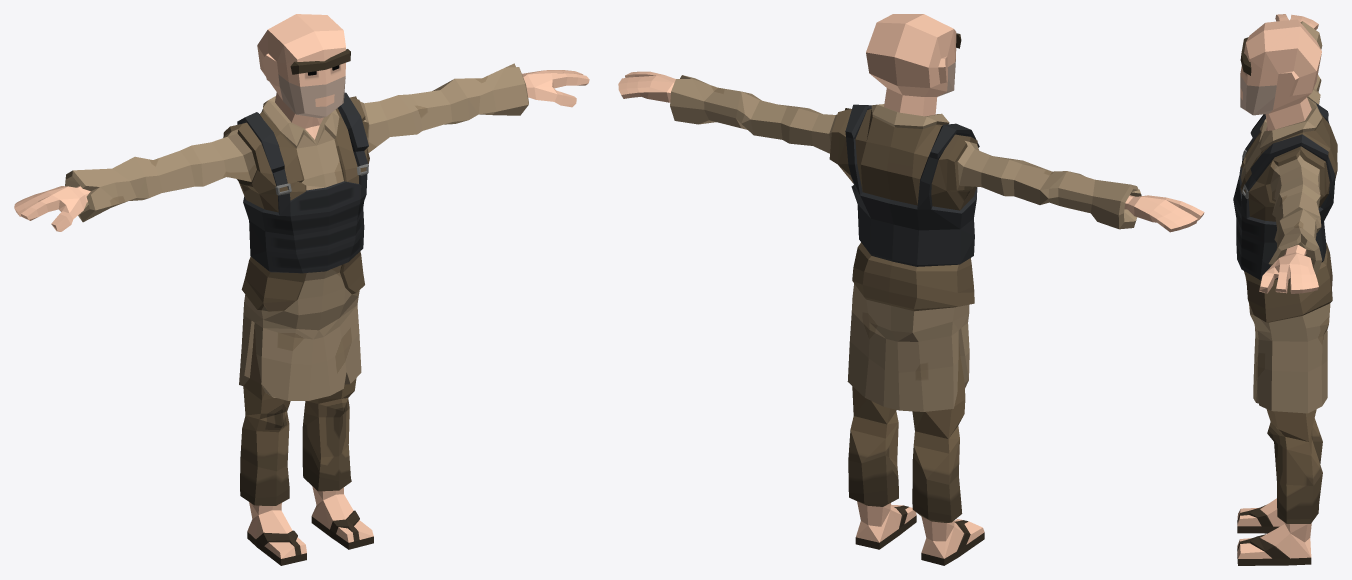
Rendered from SM_Chr_Insurgent_Male_05.fbx.
The picture shows the model from 3 angles, left to right: view 1: azimuth 30°, elevation 25°; view 2: azimuth 150°, elevation 25°; view 3: azimuth 270°, elevation 25°; orthographic projection. The views are drawn at different scales.
Visible parts, largest first — view 1: SM_Chr_Insurgent_Male_05; view 2: SM_Chr_Insurgent_Male_05; view 3: SM_Chr_Insurgent_Male_05.
Part boxes in pixels (x1,y1,x2,y2): SM_Chr_Insurgent_Male_05: (14, 14, 589, 565); SM_Chr_Insurgent_Male_05: (618, 14, 1204, 565); SM_Chr_Insurgent_Male_05: (1233, 14, 1337, 565).
Bounding box in the file's own units: 205 × 179 × 32.82.
